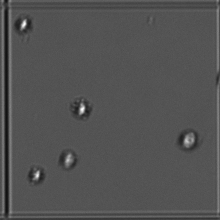Living Cell: (22, 161, 53, 192), (55, 146, 85, 176), (67, 94, 97, 124), (176, 126, 206, 156), (13, 12, 39, 38)
